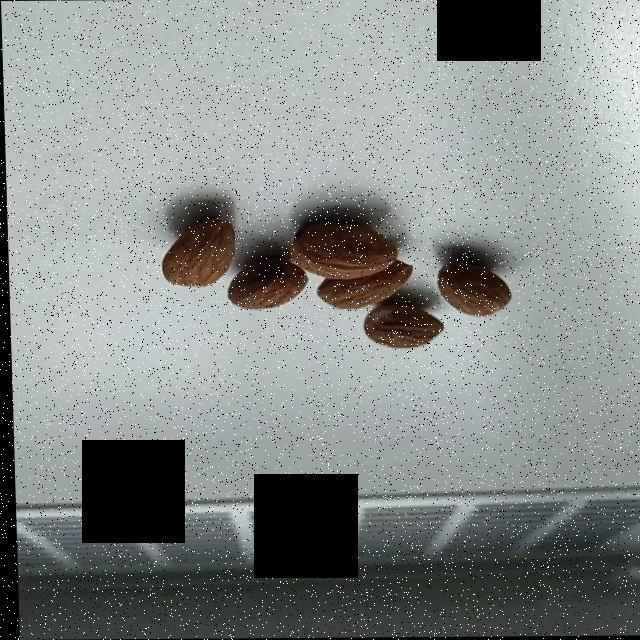almonds: (178, 222, 496, 347)
